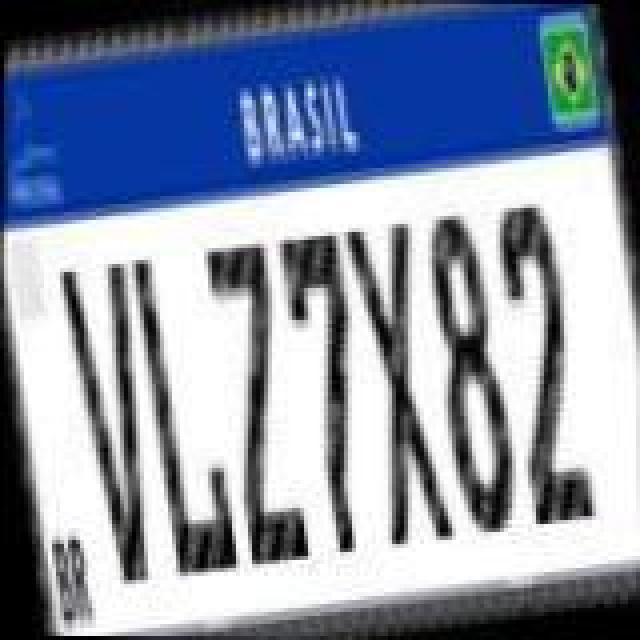2: (482, 196, 602, 532)
7: (270, 226, 386, 558)
8: (412, 202, 528, 538)
L: (126, 248, 242, 580)
V: (52, 254, 172, 586)
X: (340, 216, 460, 548)
Z: (198, 234, 314, 570)
